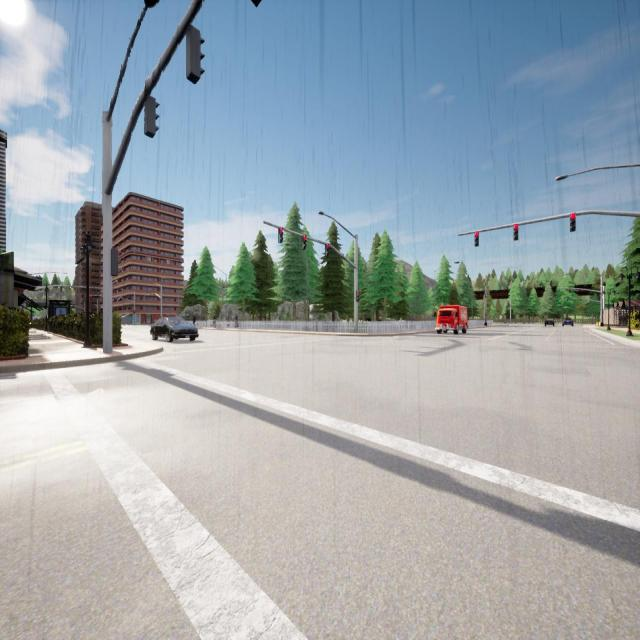Pedestrian: (235, 315, 238, 327), (213, 314, 216, 326), (193, 314, 196, 325)
Traffic_Signs: (499, 315, 502, 319)
Vehicle: (151, 317, 198, 341), (437, 305, 468, 334), (562, 318, 574, 327), (545, 318, 554, 326)
traffic_light: (186, 25, 205, 84), (145, 97, 159, 138), (111, 248, 118, 276), (570, 214, 575, 232), (514, 224, 518, 241), (278, 228, 282, 242), (474, 232, 478, 246), (302, 236, 306, 249), (325, 244, 329, 256), (356, 290, 359, 302), (567, 299, 568, 303), (580, 299, 581, 303), (557, 300, 558, 303), (570, 288, 570, 292)
